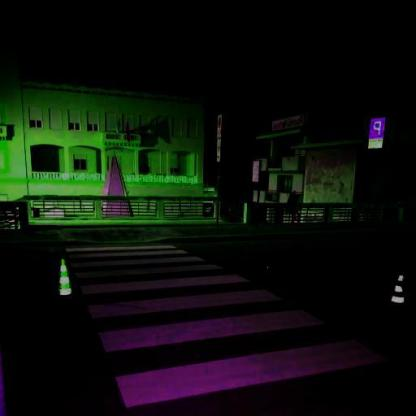crosswalk: (81, 287, 341, 356), (60, 248, 212, 270)
